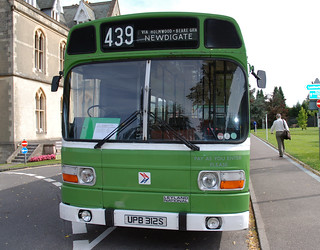bus: (50, 11, 265, 233)
